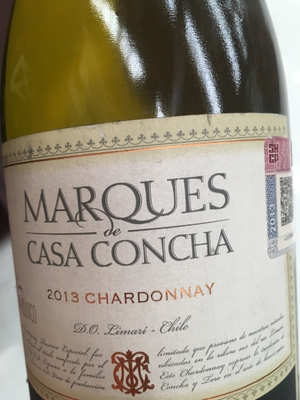marques de casa concha chardonnay: (5, 29, 299, 400)
